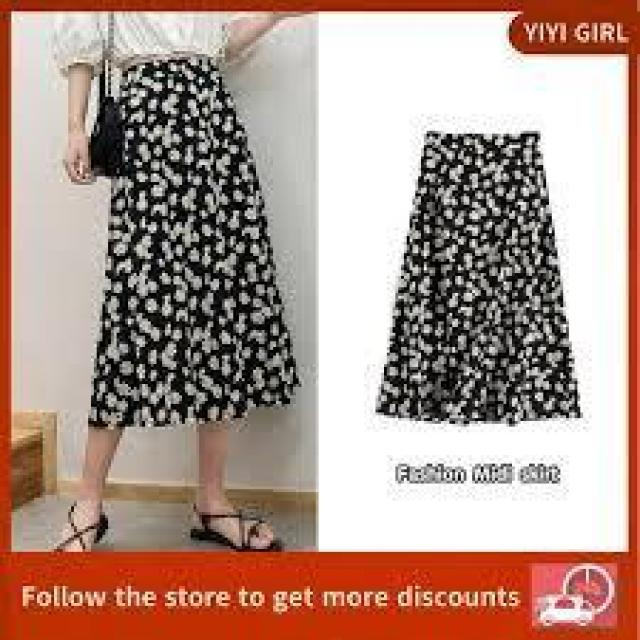skirt: (101, 59, 289, 430), (377, 122, 579, 427)
